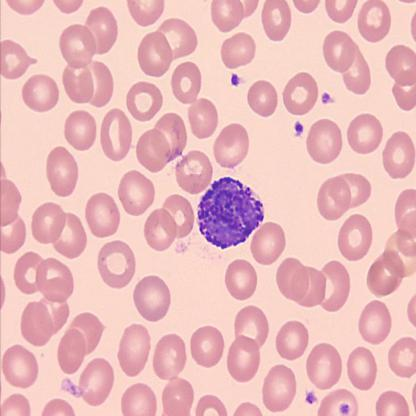Basophil: (195, 174, 266, 249)
